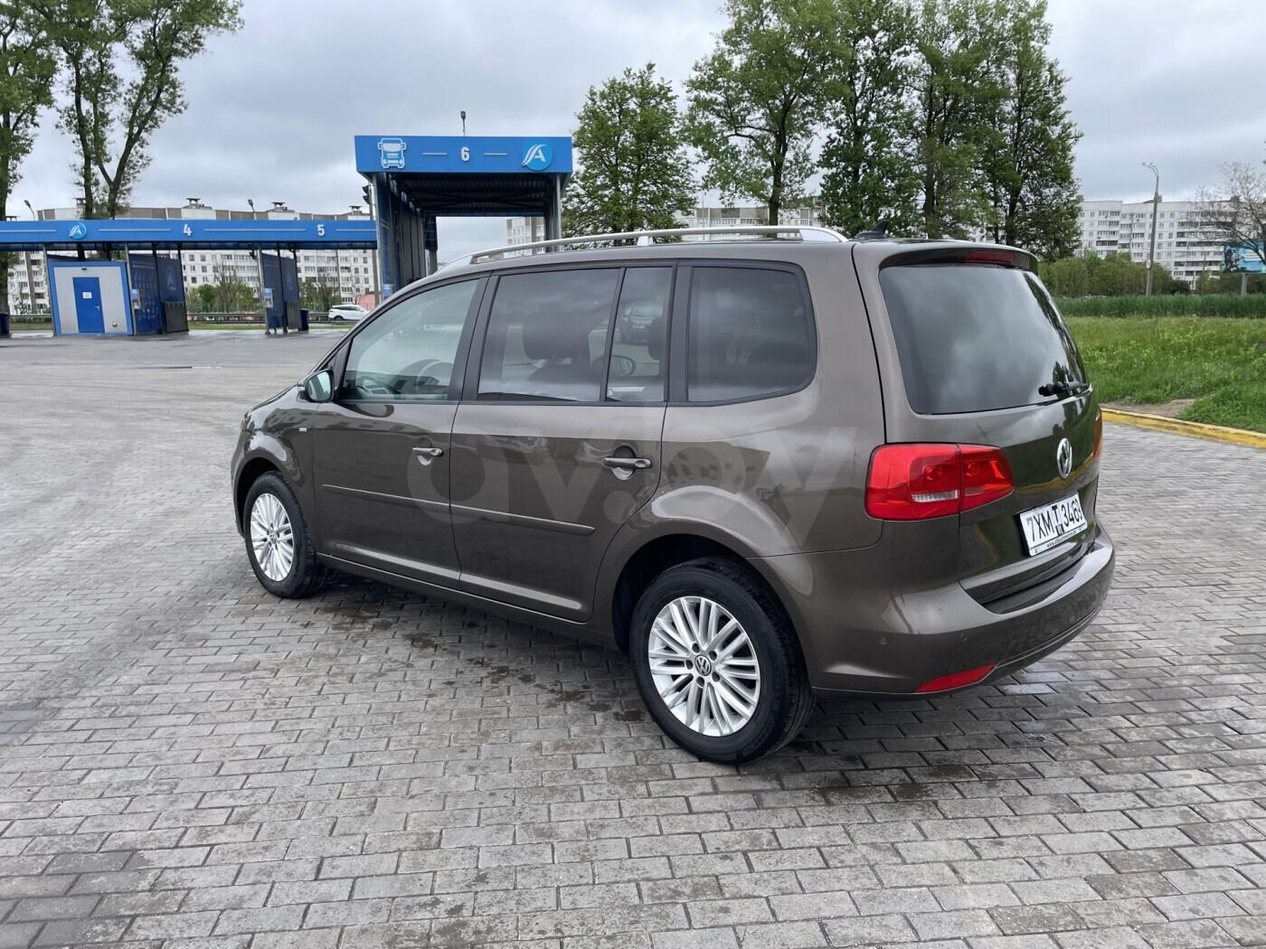Touran_2010-2015: (225, 227, 1117, 799)
